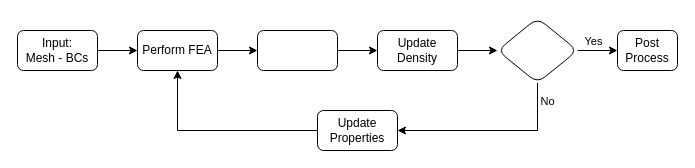
The diagram is 695 pixels wide and 168 high, and some of its shapes have lost their labels. Each missing label, with the centre of its shape:
"Converged" goes at (537,50).
"Sensitivity Analysis" goes at (297,50).
